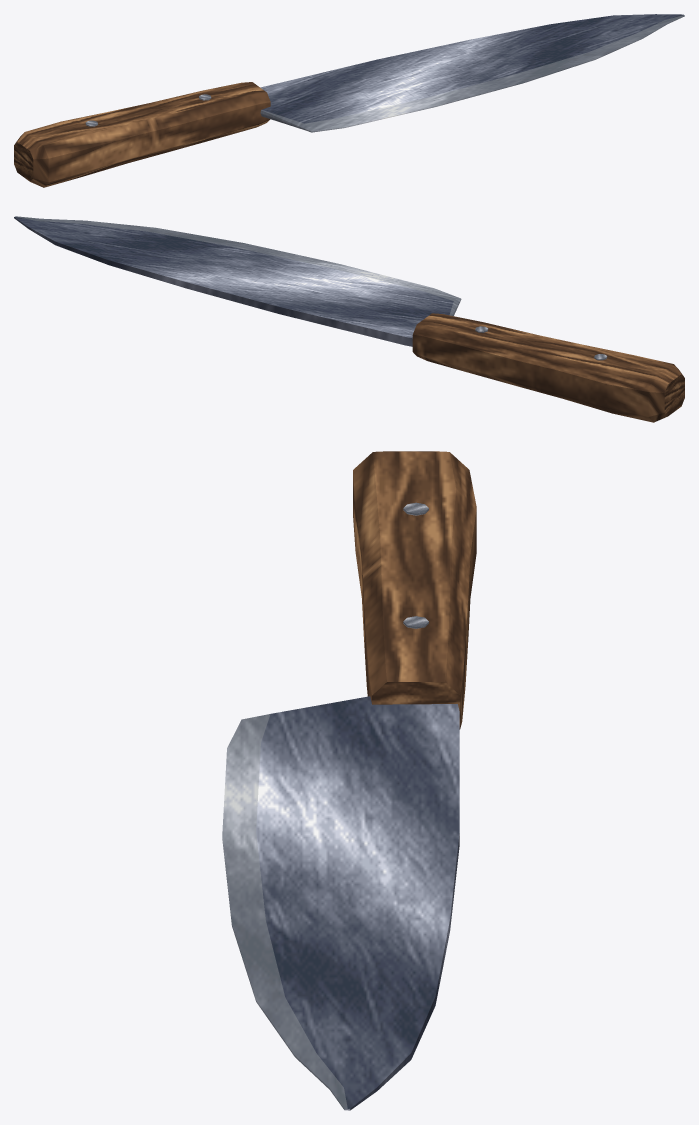
Rendered from Faca-de-Cozinha.glb.
3 renders of one model, top to bottom at view 1: azimuth 30°, elevation 25°; view 2: azimuth 150°, elevation 25°; view 3: azimuth 270°, elevation 25°, orthographic. The views are drawn at different scales.
Visible parts, largest first — view 1: Lâmina, Cabo de madeira, Fio de corte; view 2: Lâmina, Cabo de madeira, Fio de corte, Dorso; view 3: Lâmina, Cabo de madeira, Fio de corte.
Boxes of the visible parts, bbox=[...] form: Lâmina: bbox=[260, 14, 683, 123]; Cabo de madeira: bbox=[14, 82, 270, 187]; Fio de corte: bbox=[260, 15, 684, 132]; Lâmina: bbox=[14, 217, 453, 338]; Cabo de madeira: bbox=[412, 313, 684, 422]; Fio de corte: bbox=[15, 216, 461, 315]; Dorso: bbox=[14, 217, 412, 346]; Lâmina: bbox=[256, 696, 459, 1108]; Cabo de madeira: bbox=[353, 451, 476, 729]; Fio de corte: bbox=[222, 714, 347, 1109].
Size of the model in its own units: 0.307 by 0.0193 by 0.0525.
3 materials, 3 textured.
